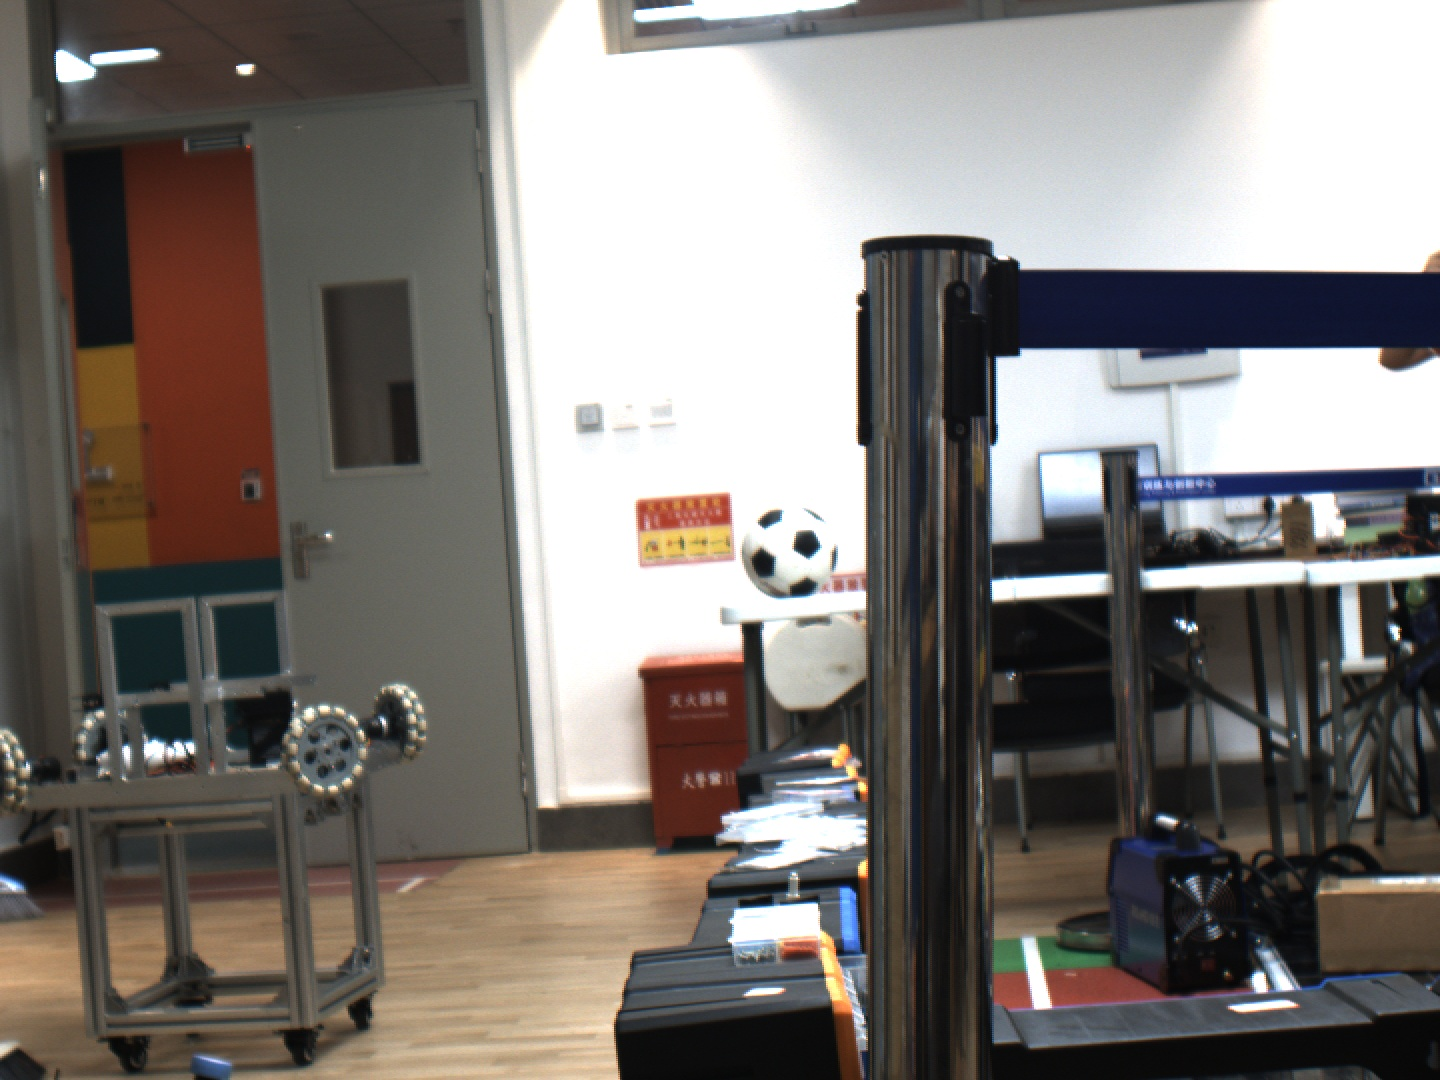ball: (732, 500, 849, 606)
